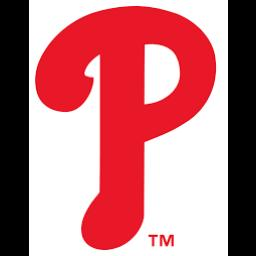p: (29, 4, 227, 256)
